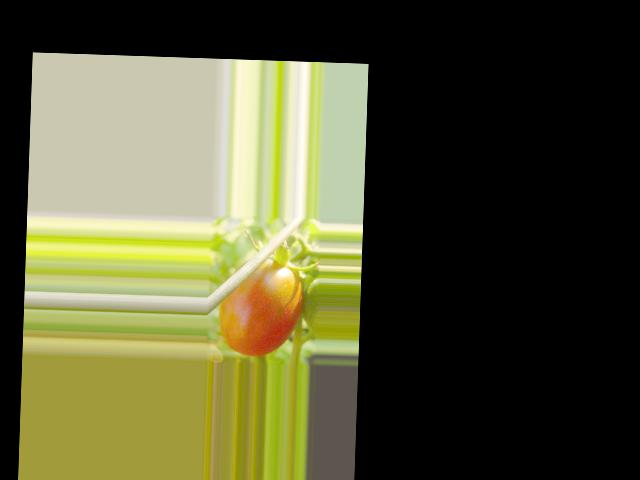tomato: (218, 257, 302, 357)
